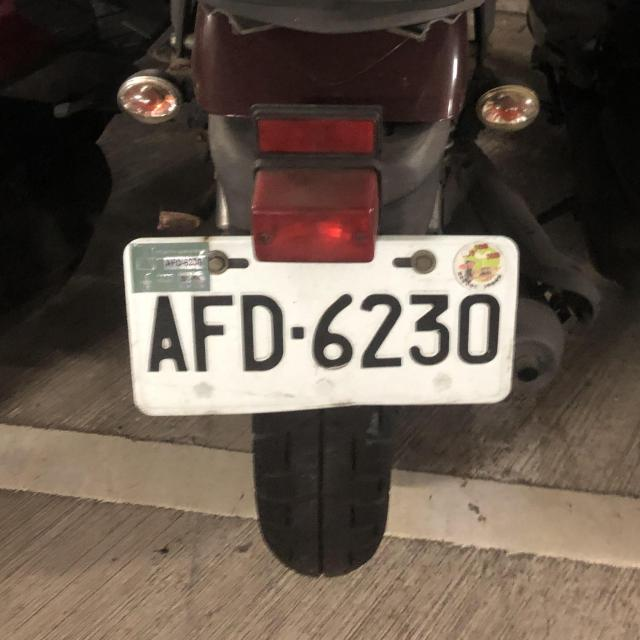W: (112, 214, 524, 422)
